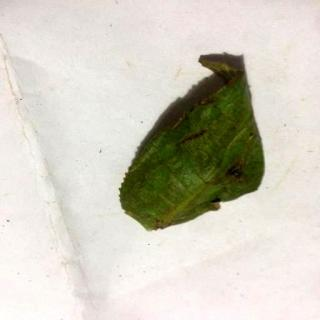Red Leaf Spot: (121, 60, 266, 231)
